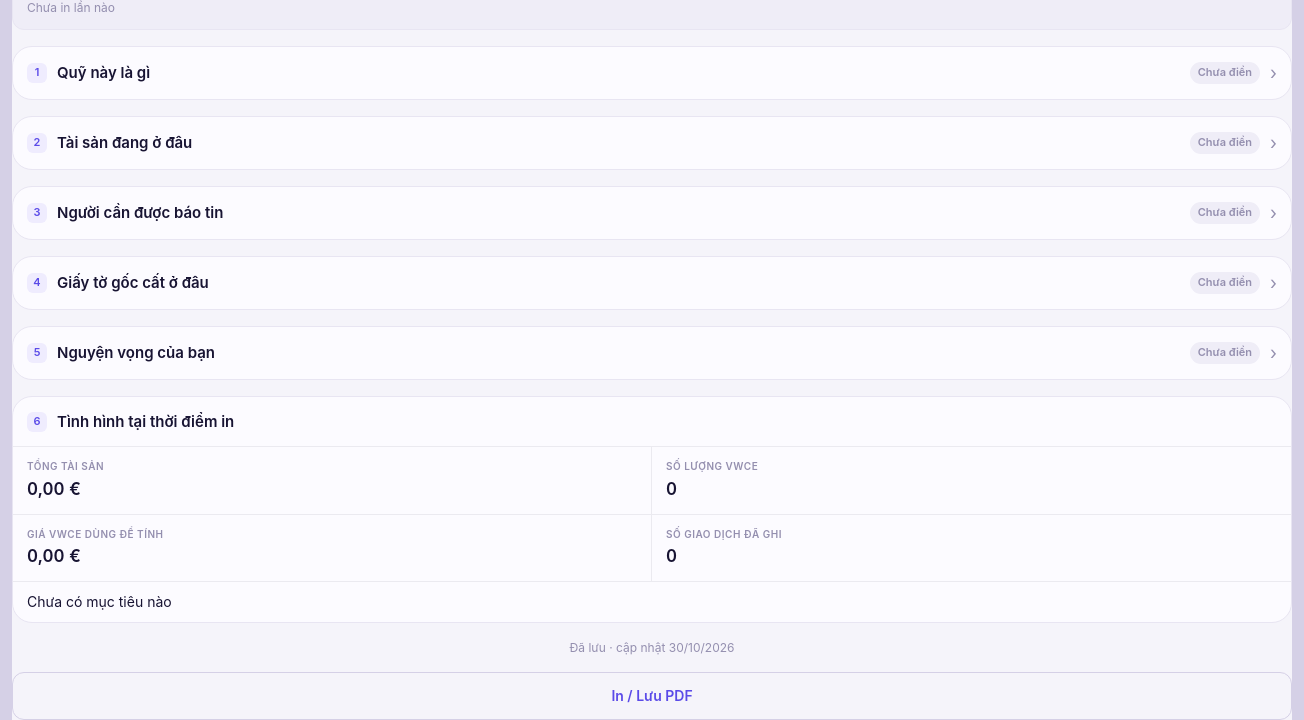
Test: Notfallmappe save state › does not print when saving the print timestamp fails
(page scrolled)
What coordinates should you click on to do the following:
click the button "In / Lưu PDF"
I would click on:
 (652, 696)
Its box is top-left (12, 672), bottom-right (1292, 719).
(page scrolled)
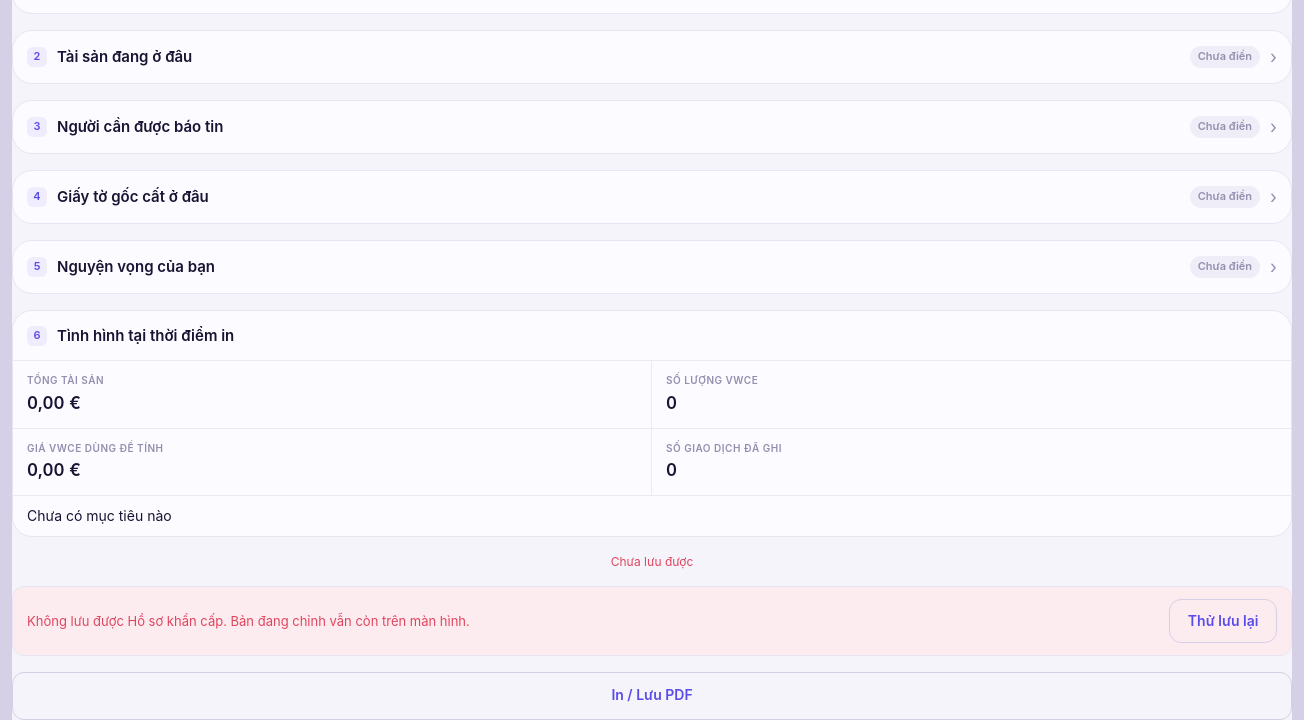
Check: the 2nd message shows "Không lưu được Hồ sơ khẩn cấp", box top-left (27, 613), bottom-right (470, 629)
